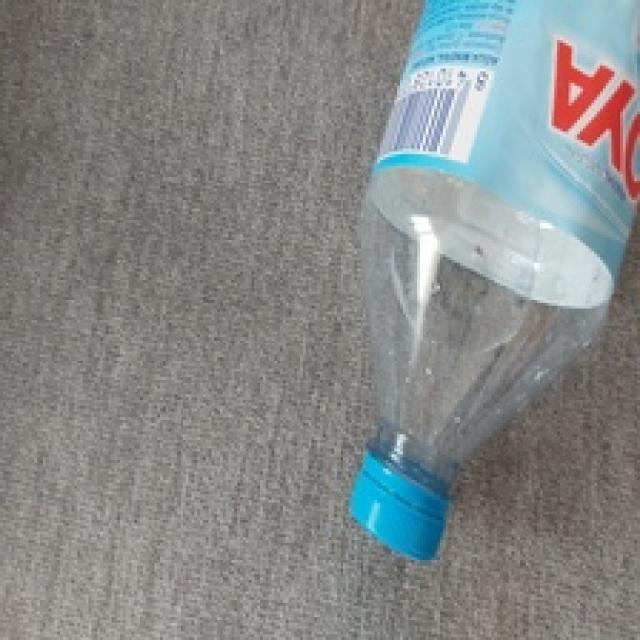Plastic: (348, 0, 640, 562)
